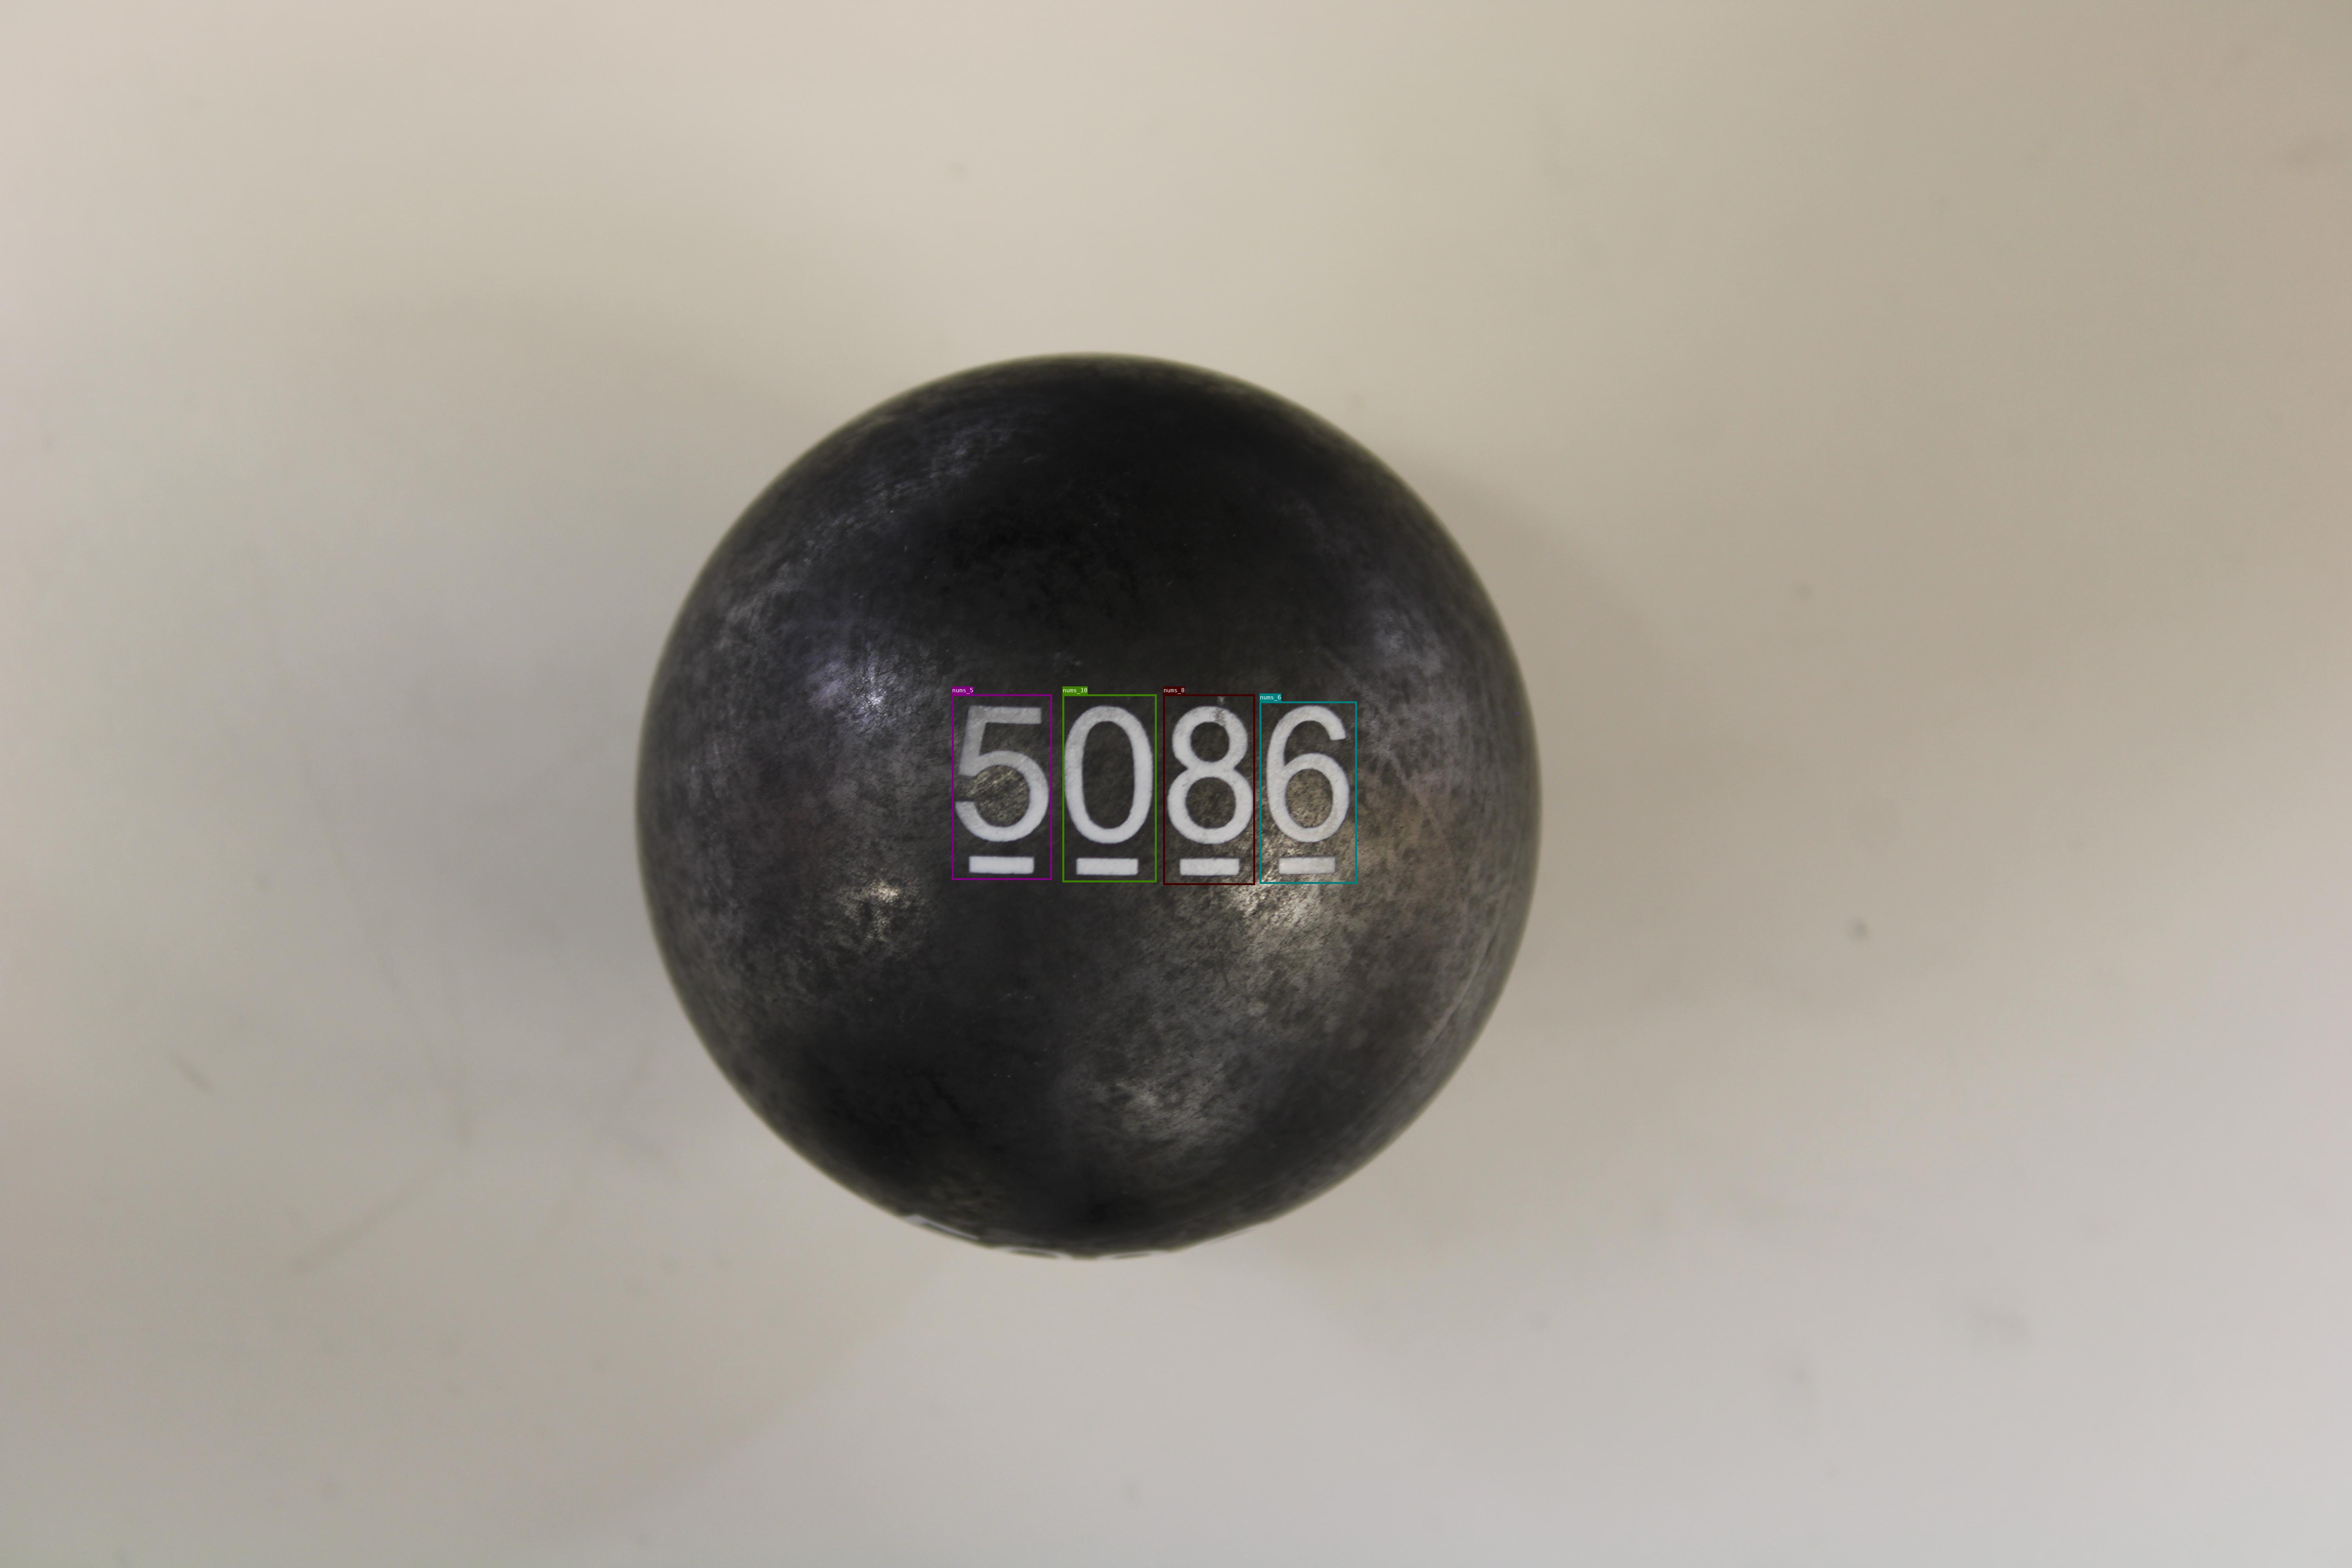nums_10: (1062, 695, 1157, 882)
nums_5: (952, 695, 1052, 880)
nums_6: (1260, 702, 1356, 884)
nums_8: (1164, 695, 1255, 886)
